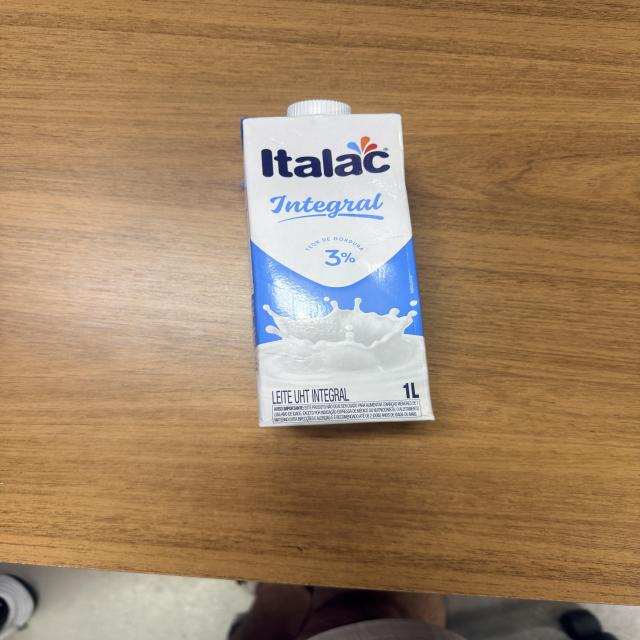Caixa de Leite: (244, 110, 438, 422)
